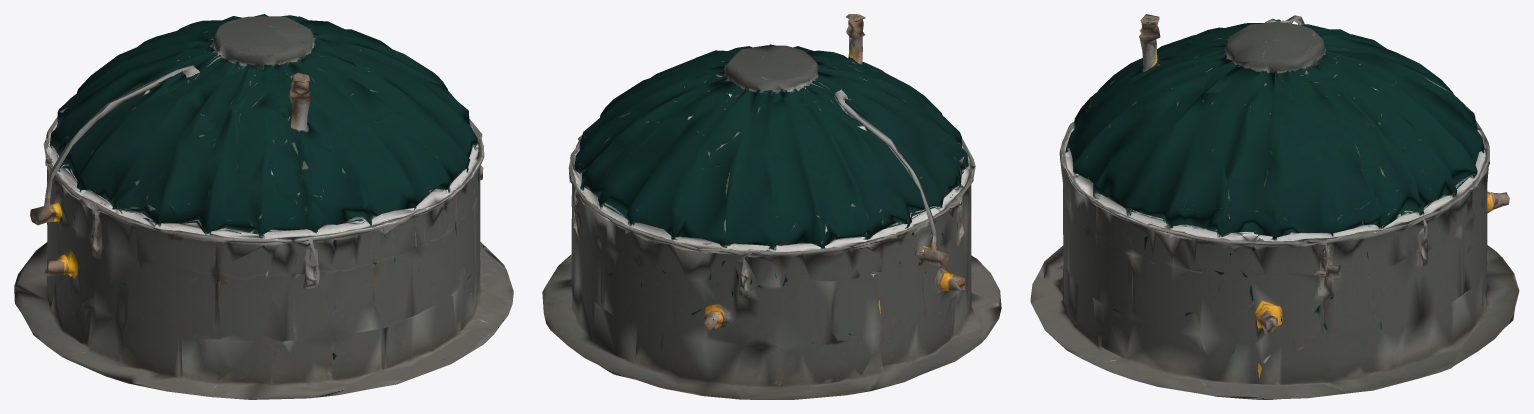
File: biogas-digester-lite.glb
3 views of the same model, side by side, from view 1: azimuth 30°, elevation 25°; view 2: azimuth 150°, elevation 25°; view 3: azimuth 270°, elevation 25° (orthographic). The views are drawn at different scales.
Size of the model in its own units: 1.9 by 1.14 by 1.9.
Materials: 1 (1 with a texture image).
